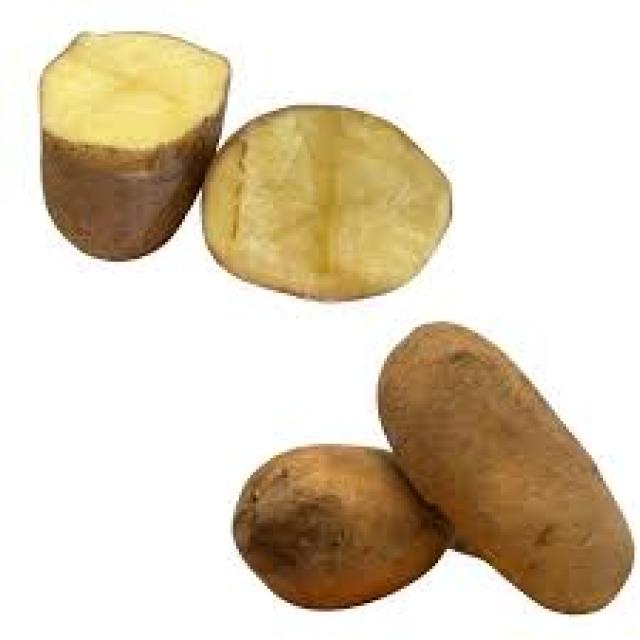Potato: (41, 31, 442, 313), (365, 331, 640, 616)
